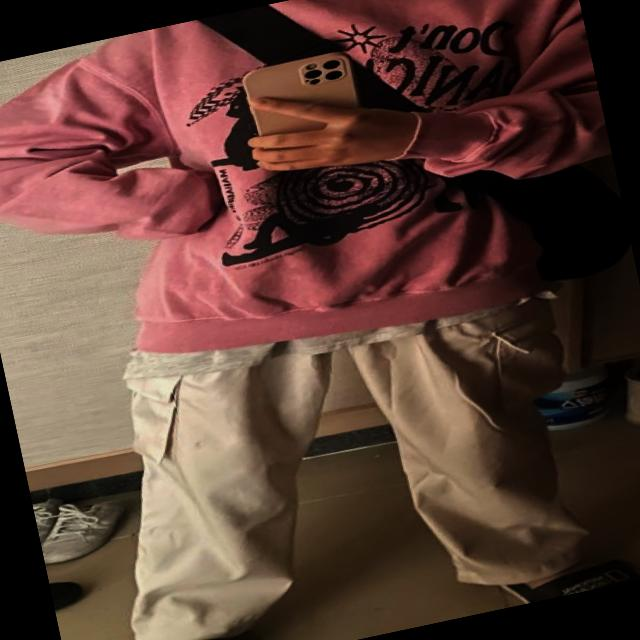cottonpants: (71, 264, 611, 640)
mtm: (0, 0, 636, 404)
